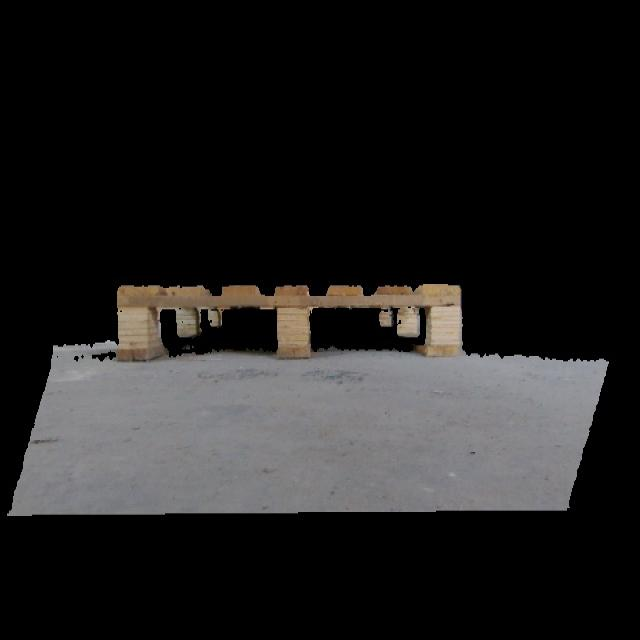block: (114, 286, 154, 366), (424, 287, 462, 358), (271, 302, 314, 360), (176, 304, 200, 344), (399, 303, 422, 339), (377, 304, 394, 328), (209, 306, 226, 328)
front: (110, 279, 465, 371)
